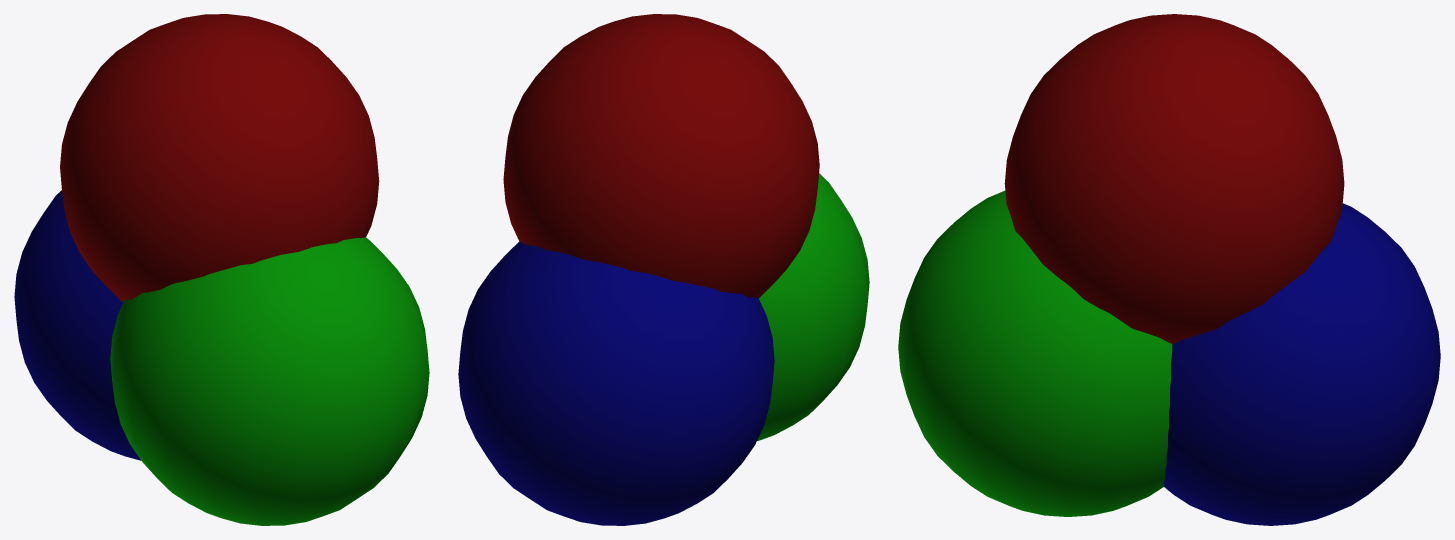
The model's file is 3 Spheres.fbx.
3 views of the same model, side by side, from view 1: azimuth 30°, elevation 25°; view 2: azimuth 150°, elevation 25°; view 3: azimuth 270°, elevation 25° (orthographic). The views are drawn at different scales.
Parts seen in each view (by area): view 1: pSphere4; view 2: pSphere4; view 3: pSphere4.
Part boxes in pixels (bbox=[...]): pSphere4: bbox=[14, 14, 429, 525]; pSphere4: bbox=[458, 14, 869, 525]; pSphere4: bbox=[898, 14, 1440, 525].
Bounding box in the file's own units: 2 × 3.12 × 3.19.
